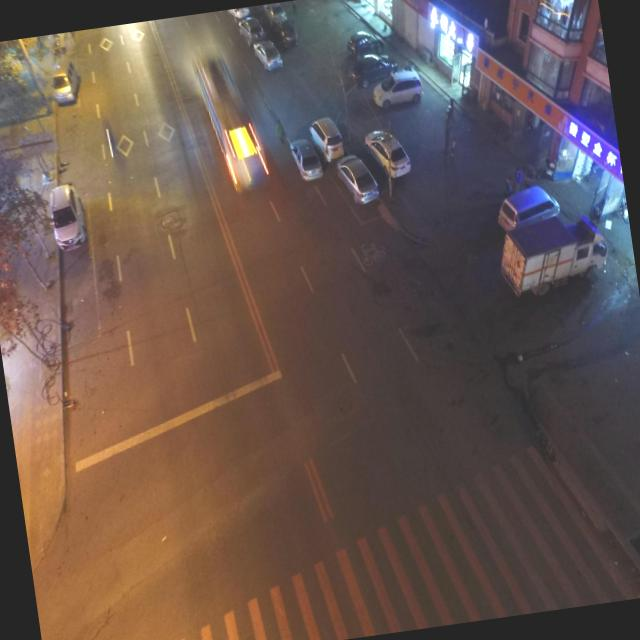car: (482, 174, 564, 238), (38, 178, 96, 256), (328, 148, 387, 212), (363, 127, 418, 185), (369, 65, 427, 112), (306, 112, 348, 166), (285, 133, 325, 186), (347, 50, 400, 90), (48, 59, 82, 108), (344, 26, 384, 58), (252, 39, 286, 72), (237, 14, 266, 46), (276, 15, 299, 48), (260, 2, 287, 25), (230, 7, 250, 22)
truck: (493, 216, 611, 302)
